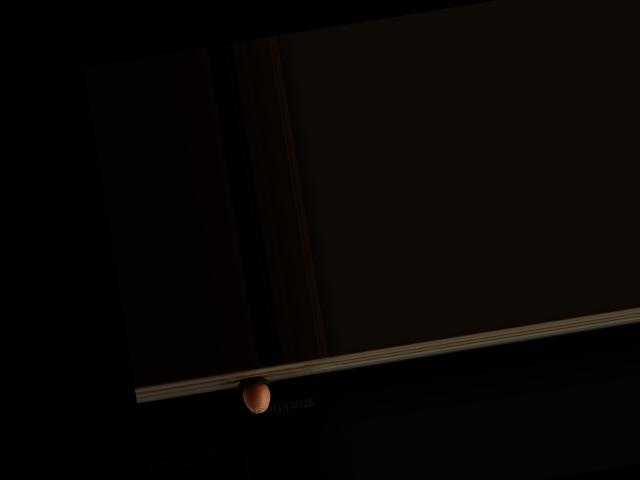egg: (240, 381, 272, 415)
